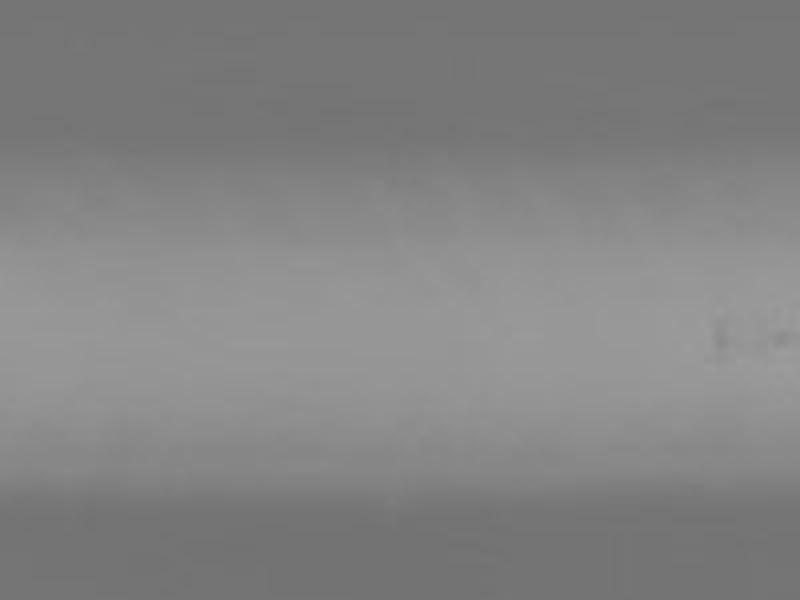defect: (708, 324, 733, 364), (769, 327, 792, 350)
